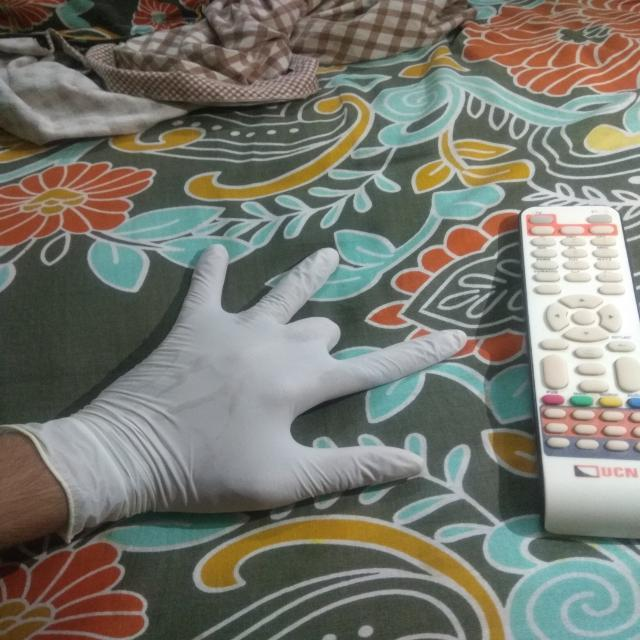glove_hand: (4, 237, 472, 571)
